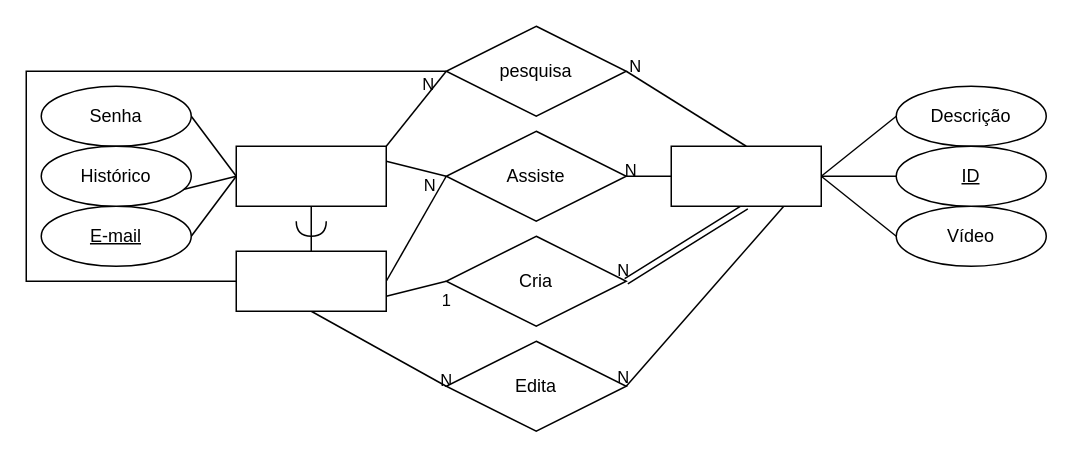
The diagram is 1073 pixels wide and 458 high, and some of its shapes have lost their labels. The box of each missing label's shape, as (x1, y1, x2, y2) in pixels:
Admin: (235, 250, 386, 311)
Tutoriais: (670, 145, 821, 206)
Usuário: (235, 145, 386, 206)
